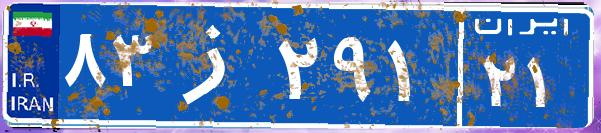1: (385, 28, 445, 110), (525, 38, 570, 115)
2: (273, 28, 330, 110), (475, 38, 525, 113)
3: (110, 28, 158, 105)
8: (57, 26, 110, 107)
9: (330, 28, 385, 110)
ز: (158, 15, 273, 115)
